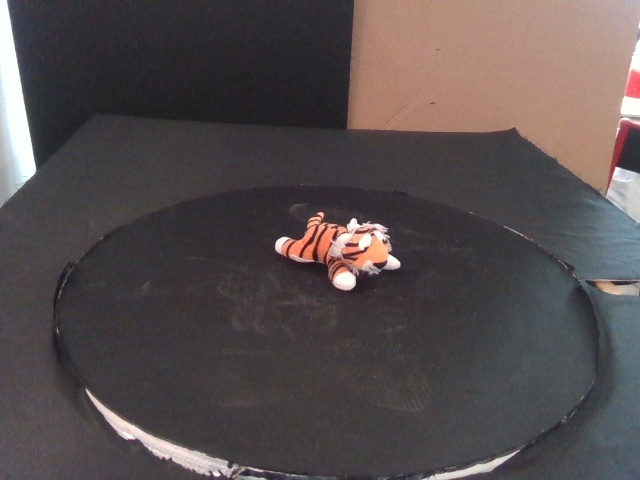teddy_bear: (273, 212, 402, 289)
